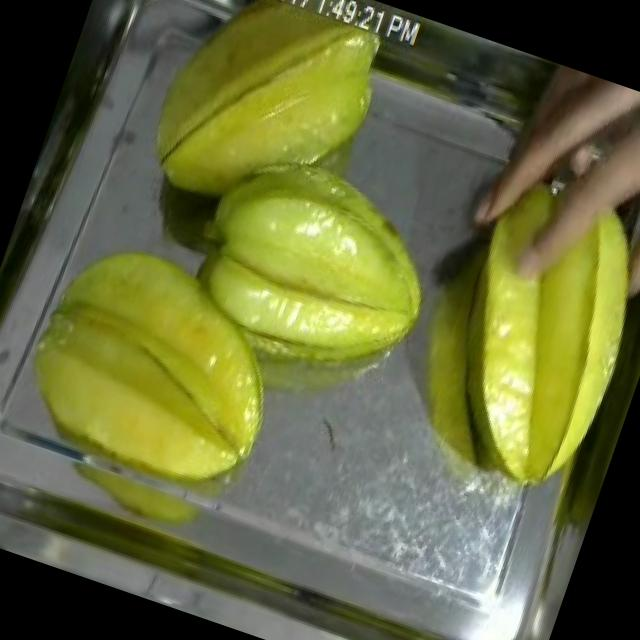fruit: (0, 209, 318, 520), (398, 144, 640, 518), (163, 124, 471, 403), (121, 0, 412, 255), (507, 60, 640, 243)
